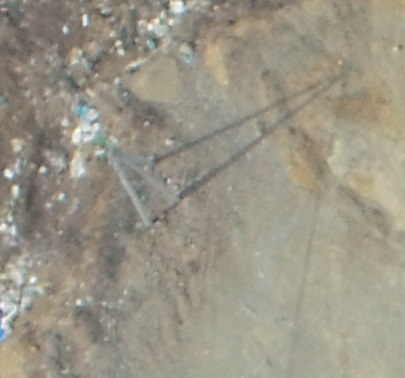opora: (104, 132, 207, 228)
